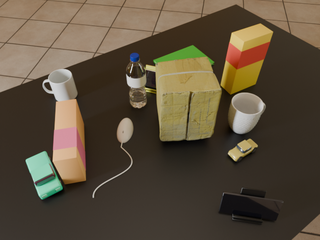book: (154, 45, 214, 65)
bottle: (126, 53, 147, 109)
box: (156, 56, 221, 141), (221, 24, 273, 94), (53, 99, 86, 184)
cup: (228, 93, 265, 134), (43, 69, 77, 101)
mouse: (117, 118, 133, 143)
phone: (219, 192, 283, 220), (146, 69, 157, 90)
toy_car: (26, 151, 63, 199), (228, 139, 258, 162)
